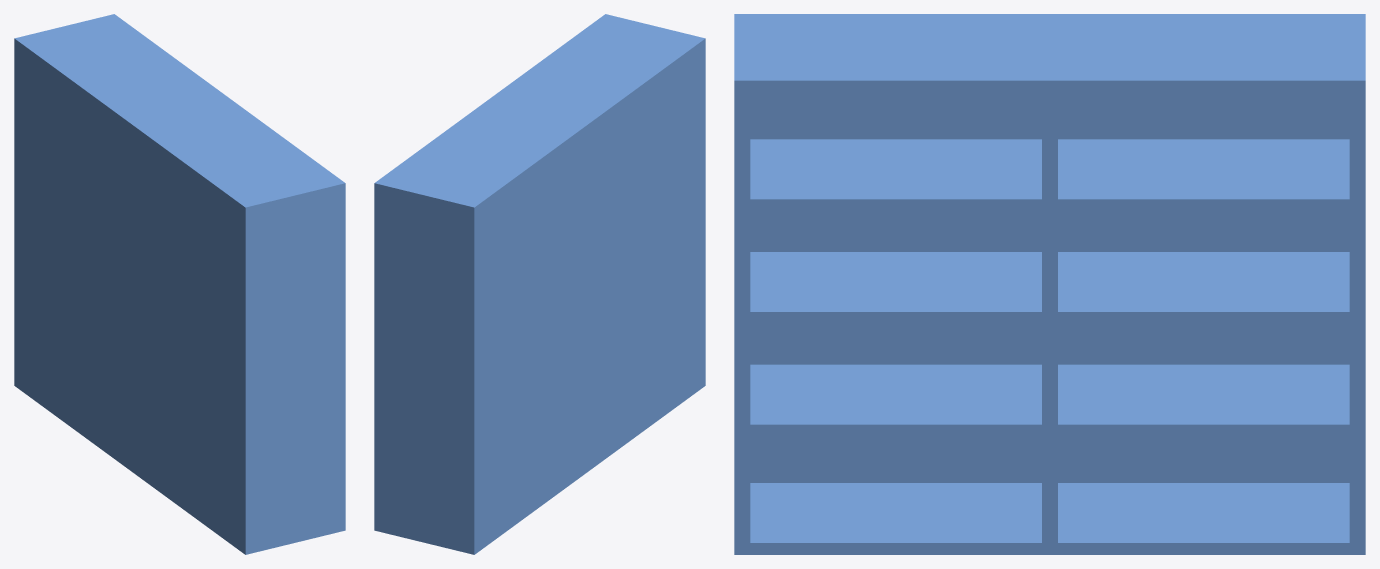
The model's file is Kitaplık.fbx.
3 views of the same model, side by side, from view 1: azimuth 30°, elevation 25°; view 2: azimuth 150°, elevation 25°; view 3: azimuth 270°, elevation 25° (orthographic). The views are drawn at different scales.
Visible parts, largest first — view 1: Kitaplık.001; view 2: Kitaplık.001; view 3: Kitaplık.001.
Part boxes in pixels (x1,y1,x2,y2): Kitaplık.001: (14,14,345,554); Kitaplık.001: (374,14,705,554); Kitaplık.001: (734,14,1365,554).
Size of the model in its own units: 825 by 2737 by 3301.
